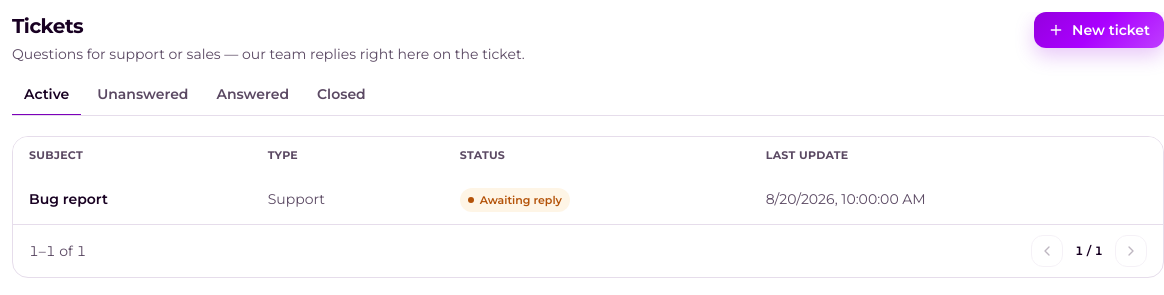
Test: Tickets › switches to the Closed tab and shows closed tickets
This screenshot has width=1164, height=295.
Expected: the link "Bug report" is shown, x1=29 y1=190 x2=108 y2=208
Click the button "Closed": (341, 98) x1=305 y1=80 x2=378 y2=116
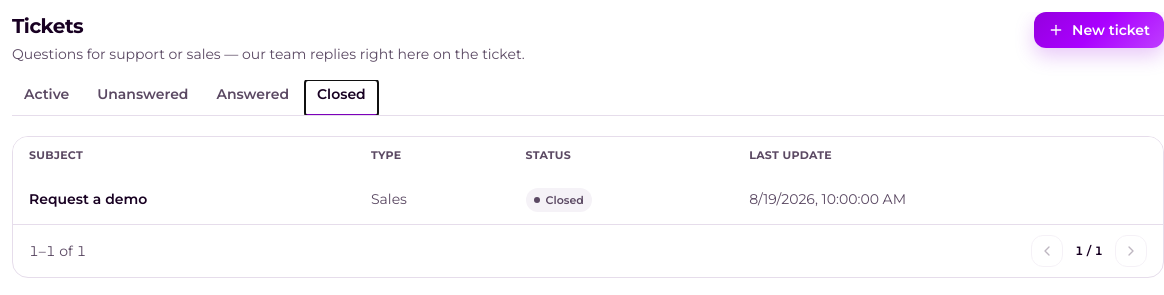
Result: the link "Request a demo" is shown at x1=29 y1=190 x2=147 y2=208
Result: the link "Bug report" is gone
